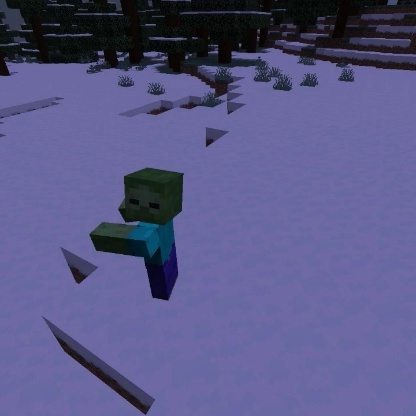zombie: (85, 164, 188, 303)
